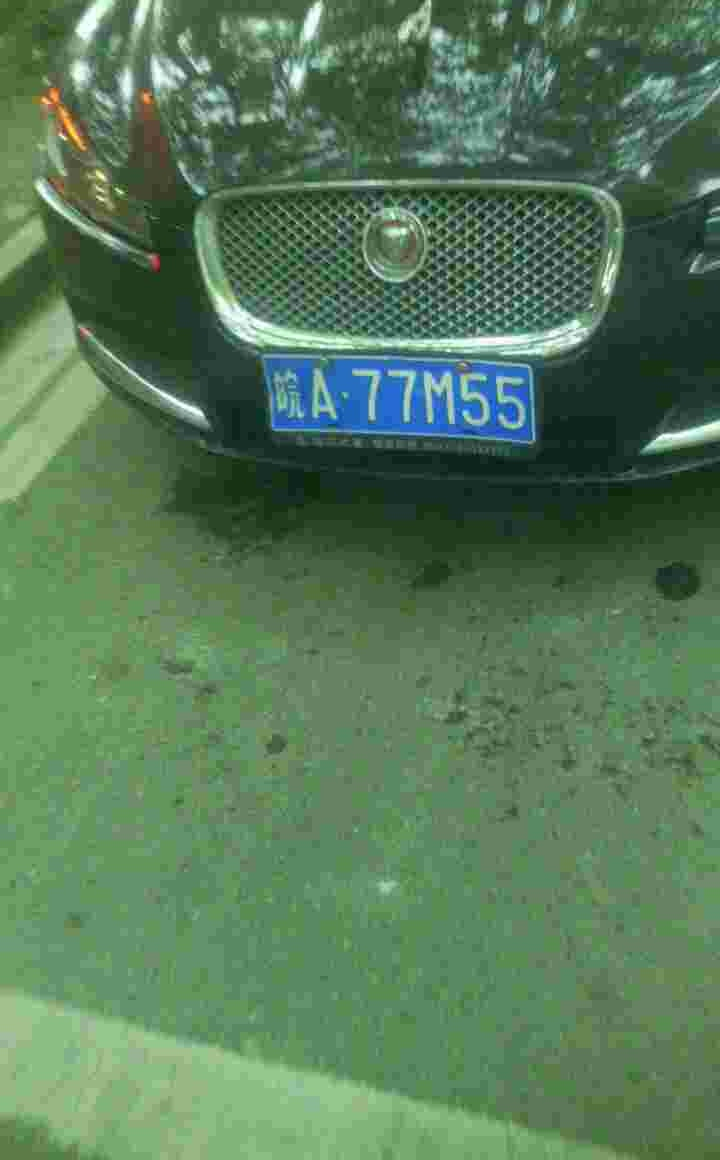plate: (260, 349, 544, 445)
